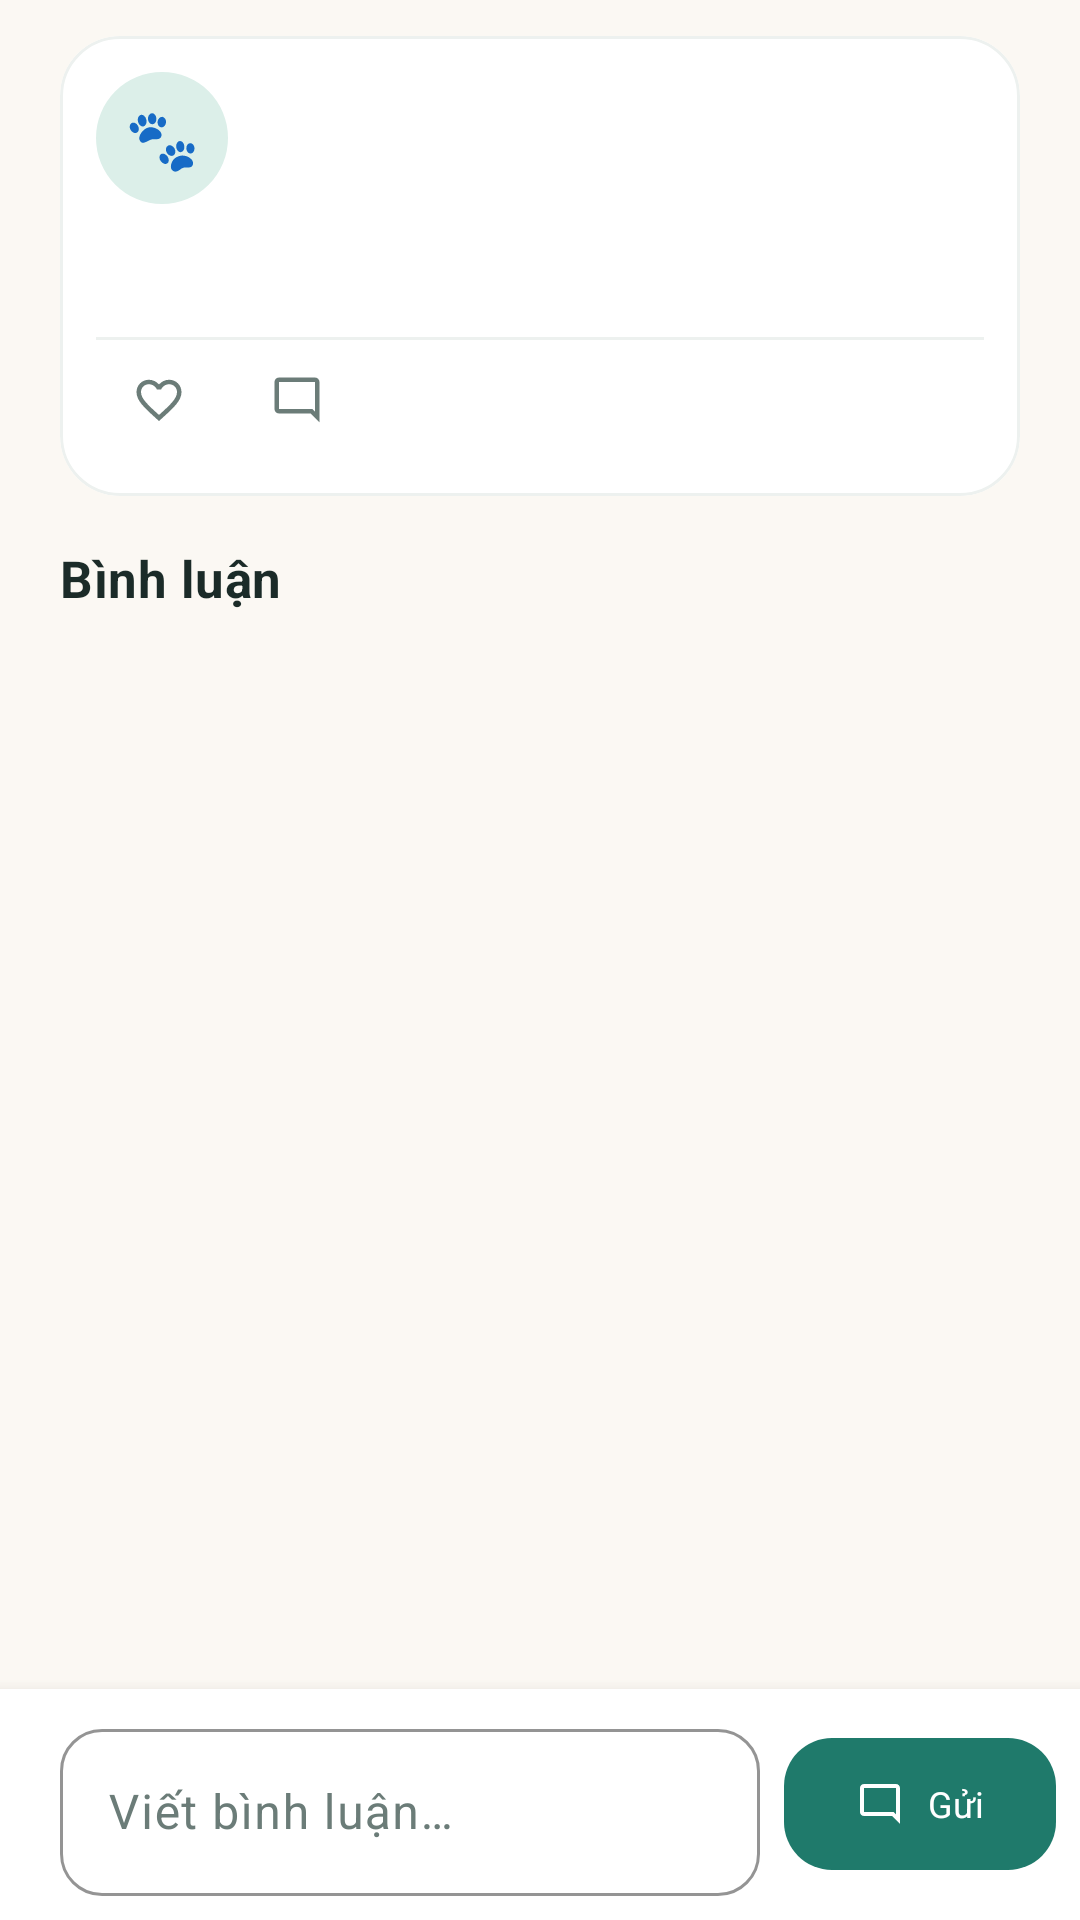

Locate icon controls on the screen. Image size 1080×1920, boxes as {"x1": x1, "y1": y1, "x2": x2, "y2": y2}.
comment: {"x1": 274, "y1": 377, "x2": 320, "y2": 422}
favorite border: {"x1": 136, "y1": 379, "x2": 182, "y2": 421}
